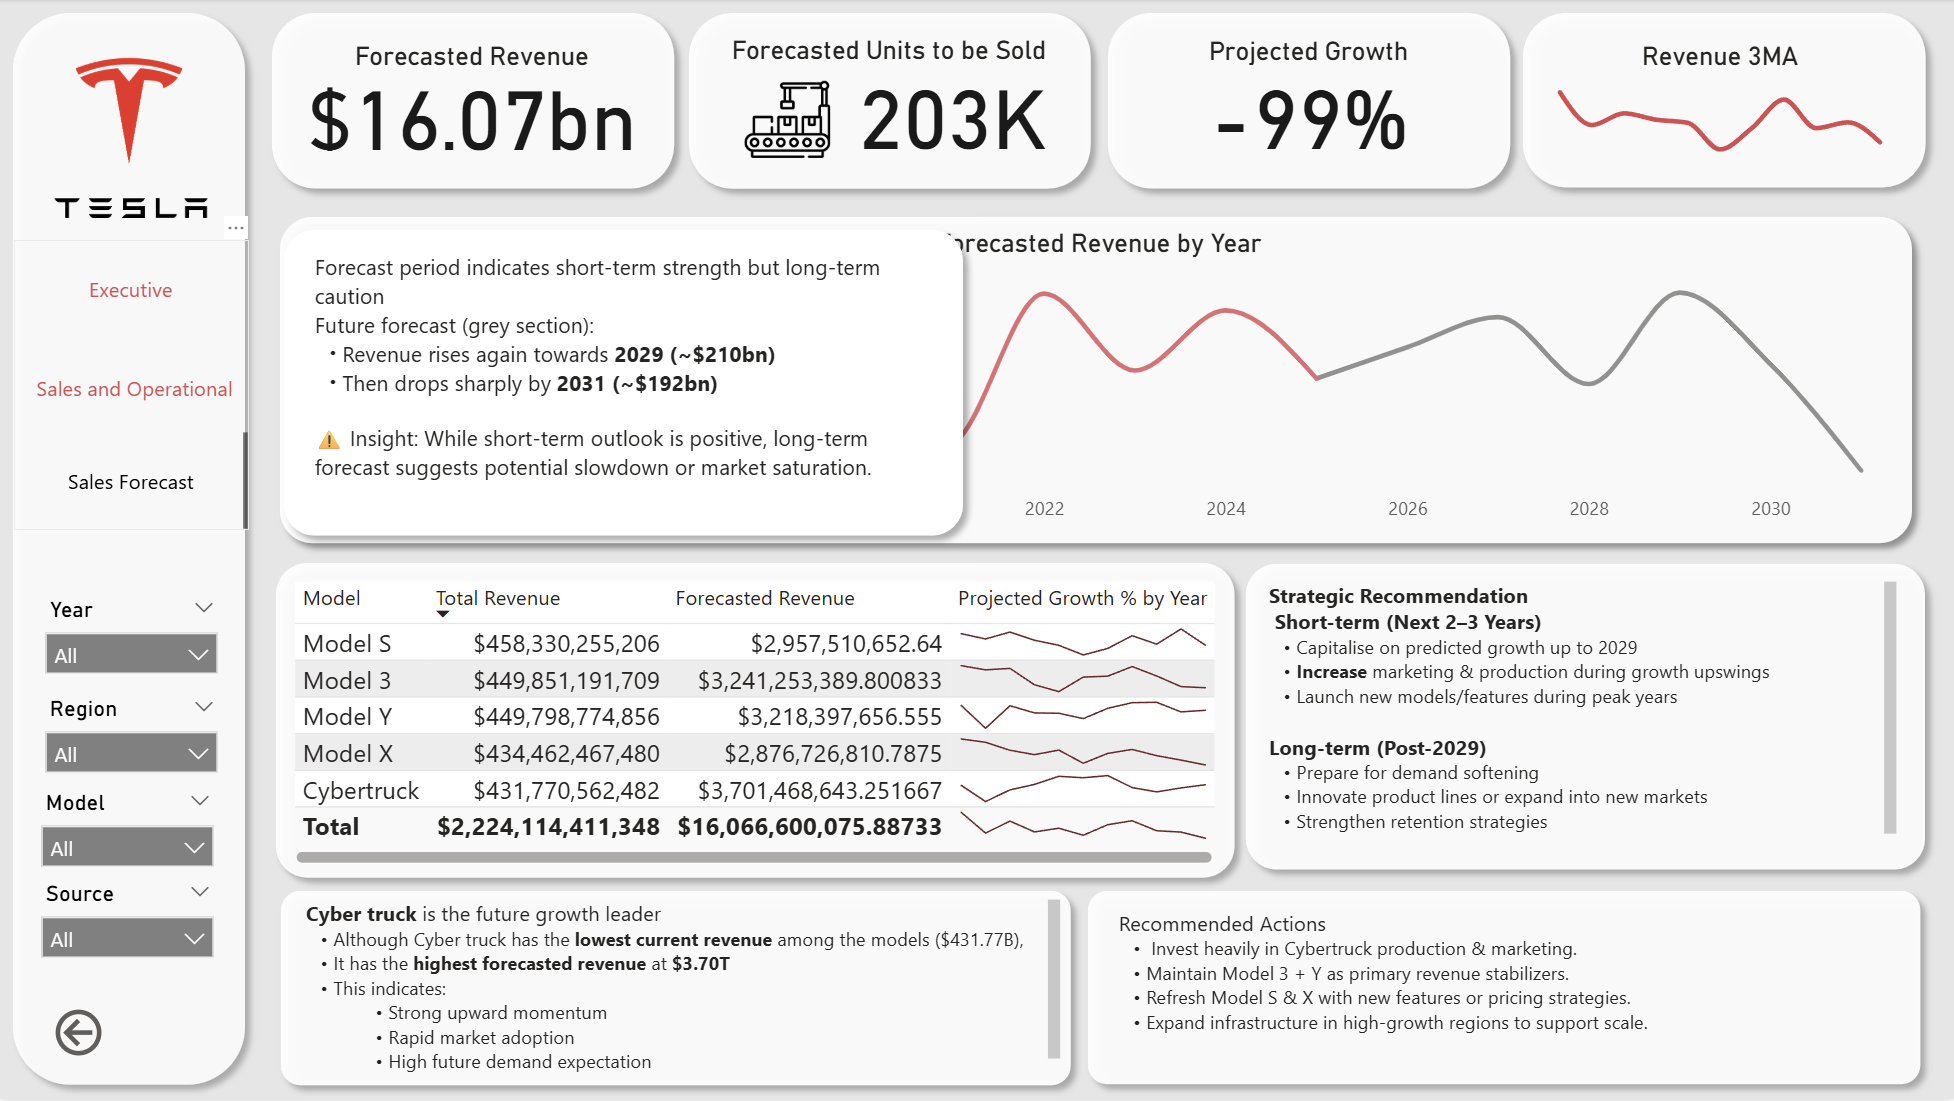

The dashboard page shown, as its layout file describes it:
{"tool":"powerbi","page":{"name":"Sales and Operational","canvas":[1280,720],"ordinal":1},"visuals":[{"type":"shape","box":[0,0,170.1,720],"z":0},{"type":"shape","box":[169.8,0,281.5,133.1],"z":0,"group":"g7"},{"type":"shape","box":[440.9,0,281.5,133.1],"z":0,"group":"g13"},{"type":"shape","box":[977.7,0,283.6,132.7],"z":0,"group":"g8"},{"type":"group","id":"g1","title":"Group 1","box":[161.3,123.7,433.5,251.8],"z":0,"group":"g10"},{"type":"shape","box":[161.3,123.7,433.6,256.6],"z":0,"group":"g1"},{"type":"group","id":"g2","title":"Group 2","box":[588.9,124,674,226.4],"z":0,"group":"g12"},{"type":"group","id":"g3","title":"Group 1","box":[588.9,124,674,226.4],"z":0,"group":"g2"},{"type":"shape","box":[588.9,124,674,226.4],"z":0,"group":"g3"},{"type":"group","id":"g4","title":"Group 1","box":[587.6,341.6,676,378.2],"z":0,"group":"g9"},{"type":"shape","box":[587.6,341.6,676,378.2],"z":0,"group":"g4"},{"type":"group","id":"g5","title":"Group 1","box":[161,371,432.4,343.6],"z":0,"group":"g6"},{"type":"shape","box":[161,371,432.5,350.1],"z":0,"group":"g5"},{"type":"card","title":"Production Units","fields":{"Values":["DELIVERIES.Estimated Deliveries"]},"box":[500.8,16.1,235.1,102.2],"z":1000,"group":"g13"},{"type":"group","id":"g6","title":"PRODUCTION","box":[161,371,432.4,343.6],"z":1000},{"type":"shape","box":[710,0,280.8,132.3],"z":2000},{"type":"columnChart","fields":{"Category":["TESLA.Year"],"Y":["DELIVERIES.Estimated Deliveries"],"Series":["TESLA.Model"]},"box":[171.9,388.7,436.7,316],"z":3000},{"type":"slicer","fields":{"Values":["TESLA.Region"]},"box":[20,451.8,133.1,72.3],"z":4000},{"type":"card","title":"Total Revenue","fields":{"Values":["DELIVERIES.Total Revenue"]},"box":[784.7,15.3,193.1,102.6],"z":5000},{"type":"slicer","title":"Year","fields":{"Values":["TESLA.Year"]},"box":[20,387.2,133.1,64.6],"z":6000},{"type":"image","box":[44.9,10.2,79.6,125.2],"z":7000},{"type":"image","box":[31.5,107.1,110.3,59.1],"z":8000},{"type":"group","id":"g7","title":"Group 1","box":[169.8,0,281.5,133.1],"z":9000},{"type":"group","id":"g8","title":"Group 1","box":[977.7,0,283.6,132.7],"z":10000},{"type":"group","id":"g9","title":"Group 2","box":[587.6,341.6,676,378.2],"z":11000},{"type":"group","id":"g10","title":"PRODUCTION","box":[161.3,123.7,433.5,251.8],"z":12000},{"type":"slicer","fields":{"Values":["TESLA.Source_Type"]},"box":[20.3,507.2,132.8,72],"z":13000},{"type":"actionButton","box":[31.8,657.3,100,40],"z":14000},{"type":"group","id":"g11","title":"Group 4","box":[588.9,124,674.1,226.2],"z":15000},{"type":"lineStackedColumnComboChart","title":"Revenue vs Estimated Deliveries","fields":{"Category":["TESLA.Model"],"Y":["DELIVERIES.Total Revenue"],"Y2":["Sum(TESLA.Estimated_Deliveries)"]},"box":[611.7,358.2,625.7,344.3],"z":16000},{"type":"barChart","title":"Revenue by Model ","fields":{"Category":["TESLA.Model"],"Y":["DELIVERIES.Total Revenue"],"Series":["TESLA.Region"]},"box":[175.3,139.5,405.4,226.6],"z":17000},{"type":"image","box":[187.1,39.3,70.7,72.9],"z":21000},{"type":"image","box":[729.9,44.6,59.3,62.5],"z":22000},{"type":"card","fields":{"Values":["Min(TESLA.Model)"]},"box":[196.9,25.8,287,92.9],"z":23000},{"type":"card","title":"Revenue YoY%","fields":{"Values":["DELIVERIES.Revenue YoY %"]},"box":[1067.7,16.3,192.9,102.3],"z":24000},{"type":"group","id":"g12","title":"Group 6","box":[588.9,124,674,226.4],"z":24005,"group":"g11"},{"type":"pivotTable","fields":{"Rows":["TESLA.Model"],"Values":["Sum(TESLA.Production_Units)","Sum(TESLA.Estimated_Deliveries)","DELIVERIES.Average Selling Price","DELIVERIES.Total Revenue","DELIVERIES.Revenue YoY %"]},"box":[611.5,144.5,624.3,192.7],"z":24005,"group":"g12"},{"type":"group","id":"g13","title":"Group 1","box":[440.9,0,295.2,133.3],"z":25000},{"type":"image","box":[475.6,44.6,66.1,66.8],"z":26000},{"type":"image","box":[1015,45.7,67.9,63.6],"z":30001},{"type":"actionButton","box":[29.3,579.3,112.9,37.1],"z":30002},{"type":"pageNavigator","box":[10,157.9,153.6,190],"z":30003}]}

Visuals, with their boxes on the page's 1280x720 design canvas (x1, y1, x2, y2). These are canvas units, not pixel positions in the 1954x1101 screenshot, which may show the page scaled, cropped or inside an application window:
shape: bbox=[0, 0, 170, 720]
shape: bbox=[170, 0, 451, 133]
shape: bbox=[441, 0, 722, 133]
shape: bbox=[978, 0, 1261, 133]
"Group 1" group: bbox=[161, 124, 595, 376]
shape: bbox=[161, 124, 595, 380]
"Group 2" group: bbox=[589, 124, 1263, 350]
"Group 1" group: bbox=[589, 124, 1263, 350]
shape: bbox=[589, 124, 1263, 350]
"Group 1" group: bbox=[588, 342, 1264, 720]
shape: bbox=[588, 342, 1264, 720]
"Group 1" group: bbox=[161, 371, 593, 715]
shape: bbox=[161, 371, 594, 721]
"Production Units" card: bbox=[501, 16, 736, 118]
"PRODUCTION" group: bbox=[161, 371, 593, 715]
shape: bbox=[710, 0, 991, 132]
columnChart - TESLA.Year x DELIVERIES.Estimated Deliveries: bbox=[172, 389, 609, 705]
slicer - TESLA.Region: bbox=[20, 452, 153, 524]
"Total Revenue" card: bbox=[785, 15, 978, 118]
"Year" slicer: bbox=[20, 387, 153, 452]
image: bbox=[45, 10, 124, 135]
image: bbox=[32, 107, 142, 166]
"Group 1" group: bbox=[170, 0, 451, 133]
"Group 1" group: bbox=[978, 0, 1261, 133]
"Group 2" group: bbox=[588, 342, 1264, 720]
"PRODUCTION" group: bbox=[161, 124, 595, 376]
slicer - TESLA.Source_Type: bbox=[20, 507, 153, 579]
actionButton: bbox=[32, 657, 132, 697]
"Group 4" group: bbox=[589, 124, 1263, 350]
"Revenue vs Estimated Deliveries" lineStackedColumnComboChart: bbox=[612, 358, 1237, 702]
"Revenue by Model " barChart: bbox=[175, 140, 581, 366]
image: bbox=[187, 39, 258, 112]
image: bbox=[730, 45, 789, 107]
card - Min(TESLA.Model): bbox=[197, 26, 484, 119]
"Revenue YoY%" card: bbox=[1068, 16, 1261, 119]
"Group 6" group: bbox=[589, 124, 1263, 350]
pivotTable - TESLA.Model x Sum(TESLA.Production_Units): bbox=[612, 144, 1236, 337]
"Group 1" group: bbox=[441, 0, 736, 133]
image: bbox=[476, 45, 542, 111]
image: bbox=[1015, 46, 1083, 109]
actionButton: bbox=[29, 579, 142, 616]
pageNavigator: bbox=[10, 158, 164, 348]
